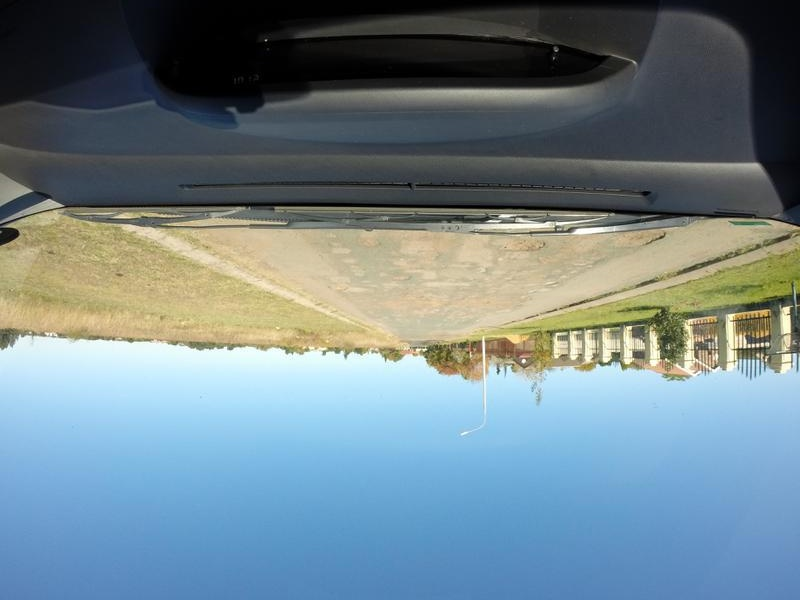pothole: (605, 229, 682, 254), (494, 232, 559, 259), (391, 267, 417, 286), (355, 232, 380, 249)
